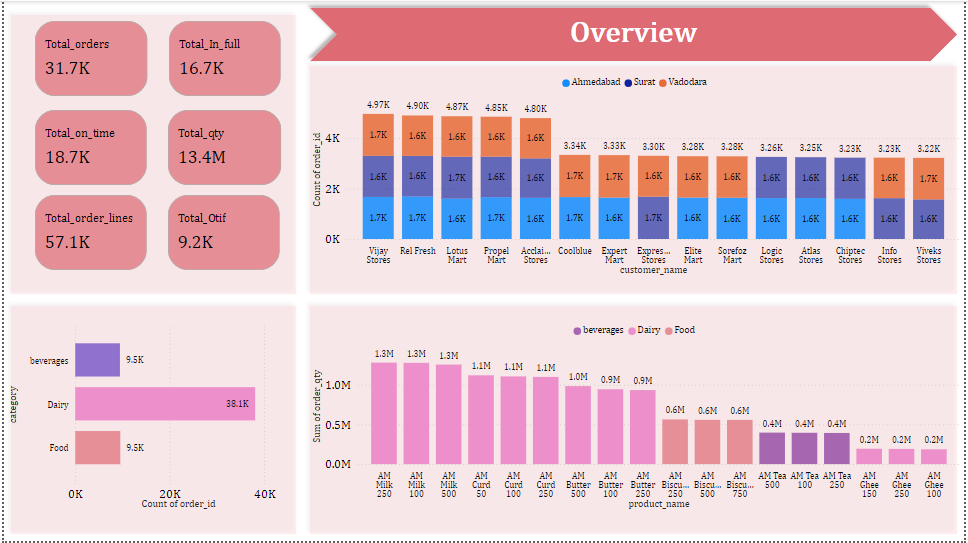

The dashboard page shown, as its layout file describes it:
{"tool":"powerbi","page":{"name":"Page 1","canvas":[1280,720],"ordinal":0},"visuals":[{"type":"shape","box":[0,397.3,398.7,322.7],"z":0},{"type":"shape","box":[398.7,397.3,881.3,322.7],"z":1000},{"type":"shape","box":[398.7,77.3,881.3,322.7],"z":2000},{"type":"shape","box":[0,9.3,398.7,390.7],"z":3000},{"type":"shape","box":[398.7,0,881.3,89.3],"z":4000},{"type":"cardVisual","fields":{"Data":["fact_orders_aggregate.order_id"]},"box":[21.4,27.1,190,100],"z":5000},{"type":"cardVisual","fields":{"Data":["fact_orders_aggregate.in_full"]},"box":[200.2,26.8,189.5,100.1],"z":6000},{"type":"cardVisual","fields":{"Data":["fact_orders_aggregate.otif"]},"box":[198.4,259.2,189.5,100.1],"z":7000},{"type":"cardVisual","fields":{"Data":["fact_orders_aggregate.on_time"]},"box":[21.5,144.8,189.5,100.1],"z":11000},{"type":"cardVisual","fields":{"Data":["fact_order_lines.order_id"]},"box":[21.5,259.2,189.5,100.1],"z":12000},{"type":"cardVisual","fields":{"Data":["fact_order_lines.order_qty"]},"box":[198.4,144.8,191.3,100.1],"z":13000},{"type":"clusteredBarChart","fields":{"Category":["dim_products.category","dim_products.product_name"],"Y":["fact_order_lines.order_id"]},"box":[0,419.5,389.6,262.6],"z":14000},{"type":"columnChart","fields":{"Category":["dim_customers.customer_name"],"Y":["fact_order_lines.order_id"],"Series":["dim_customers.city"]},"box":[405.3,89.3,874.7,281.3],"z":15000},{"type":"columnChart","fields":{"Category":["dim_products.product_name"],"Series":["dim_products.category"],"Y":["fact_order_lines.order_qty"]},"box":[405.8,420.1,874.2,262.8],"z":16000}]}

Visuals, with their boxes in screenshot pixels (x1, y1, x2, y2), scaled from the page's 1280x720 canvas onto the 968x543 screenshot:
shape: Rect(0, 300, 302, 542)
shape: Rect(302, 300, 967, 542)
shape: Rect(302, 58, 967, 302)
shape: Rect(0, 7, 302, 302)
shape: Rect(302, 0, 967, 67)
cardVisual - fact_orders_aggregate.order_id: Rect(16, 20, 160, 96)
cardVisual - fact_orders_aggregate.in_full: Rect(151, 20, 295, 96)
cardVisual - fact_orders_aggregate.otif: Rect(150, 195, 293, 271)
cardVisual - fact_orders_aggregate.on_time: Rect(16, 109, 160, 185)
cardVisual - fact_order_lines.order_id: Rect(16, 195, 160, 271)
cardVisual - fact_order_lines.order_qty: Rect(150, 109, 295, 185)
clusteredBarChart - dim_products.category x dim_products.product_name: Rect(0, 316, 295, 514)
columnChart - dim_customers.customer_name x fact_order_lines.order_id: Rect(307, 67, 967, 279)
columnChart - dim_products.product_name x dim_products.category: Rect(307, 317, 967, 515)
